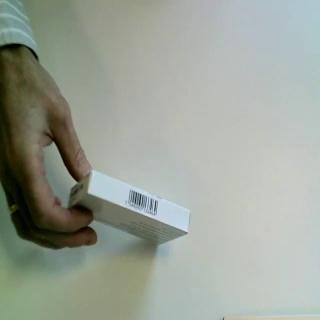oxycontin5mg: (67, 169, 193, 249)
